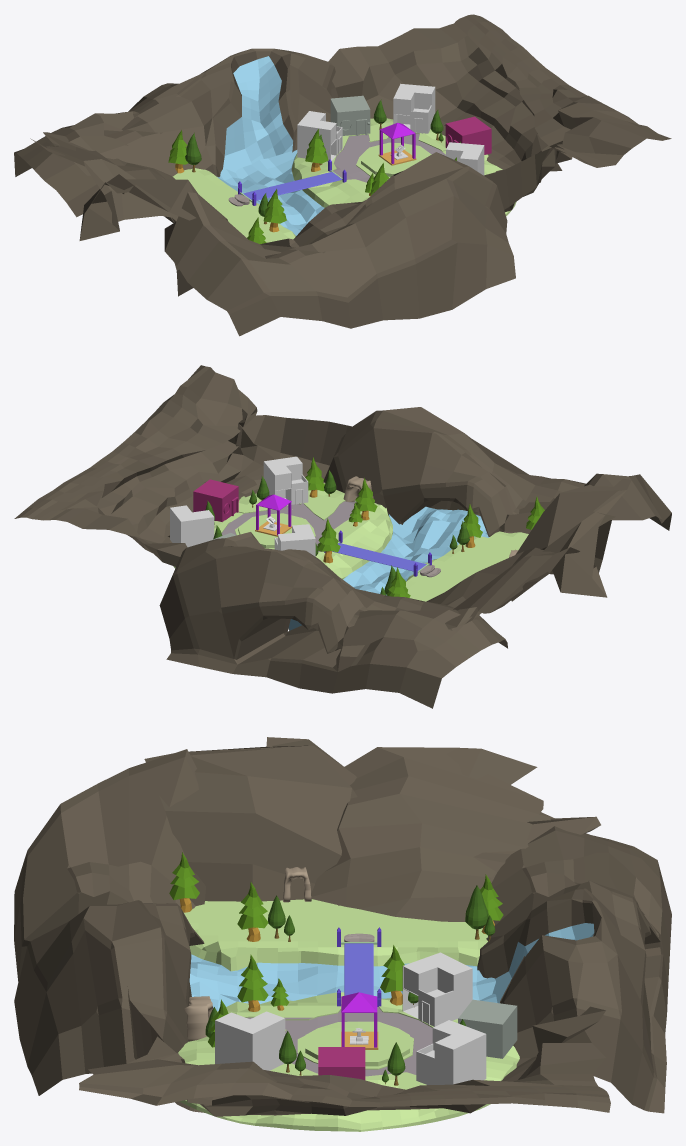
Rendered from CENA3 CIDADE.fbx.
3 renders of one model, top to bottom at view 1: azimuth 30°, elevation 25°; view 2: azimuth 150°, elevation 25°; view 3: azimuth 270°, elevation 25°, orthographic. The views are drawn at different scales.
Visible parts, largest first — view 1: Plane.024, Plane.026, Plane.025, Plane.027, Plane.001, Plane.002, Plane.012, Plane.015, Plane.014, Plane.013, Plane.006, Plane.011 (+3 smaller); view 2: Plane.025, Plane.026, Plane.024, Plane.027, Plane.001, Plane.002, Plane.011, Plane.012, Plane.013, Plane.006, Plane.015, Circle.009; view 3: Plane.027, Plane.024, Plane.025, Plane.026, Plane.001, Plane.002, Plane.015, Plane.012, Plane.011, Plane.014, Plane.006, Plane.013 (+9 smaller).
Boxes of the visible parts, <box> form: Plane.024: <box>164,152,515,336</box>; Plane.026: <box>328,14,671,212</box>; Plane.025: <box>14,48,335,217</box>; Plane.027: <box>30,132,228,240</box>; Plane.001: <box>172,150,324,242</box>; Plane.002: <box>292,118,516,216</box>; Plane.012: <box>393,83,435,133</box>; Plane.015: <box>297,111,342,161</box>; Plane.014: <box>330,95,370,135</box>; Plane.013: <box>445,116,491,154</box>; Plane.006: <box>243,172,341,200</box>; Plane.011: <box>446,142,484,175</box>; Plane.025: <box>159,532,507,708</box>; Plane.026: <box>14,365,355,566</box>; Plane.024: <box>323,407,671,574</box>; Plane.027: <box>426,478,631,630</box>; Plane.001: <box>343,506,528,601</box>; Plane.002: <box>173,483,392,579</box>; Plane.011: <box>263,456,308,505</box>; Plane.012: <box>170,505,214,547</box>; Plane.013: <box>193,479,238,521</box>; Plane.006: <box>332,543,426,571</box>; Plane.015: <box>274,524,315,556</box>; Circle.009: <box>317,518,340,563</box>; Plane.027: <box>144,737,600,921</box>; Plane.024: <box>14,749,205,1112</box>; Plane.025: <box>477,826,671,1113</box>; Plane.026: <box>79,986,610,1116</box>; Plane.001: <box>184,899,497,1011</box>; Plane.002: <box>178,992,519,1131</box>; Plane.015: <box>402,952,472,1026</box>; Plane.012: <box>416,1020,486,1084</box>; Plane.011: <box>215,1011,285,1070</box>; Plane.014: <box>458,999,517,1058</box>; Plane.006: <box>344,943,373,995</box>; Plane.013: <box>318,1047,365,1080</box>.
Size of the model in its own units: 19230 by 5342 by 15635.
